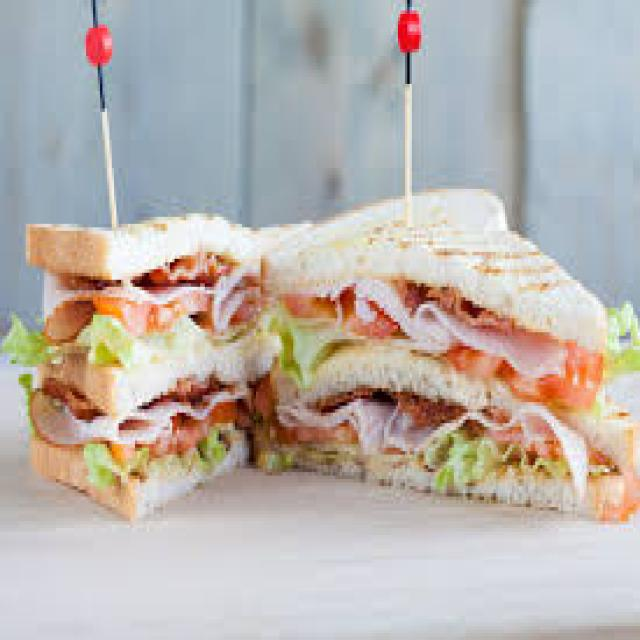Sandwich: (42, 211, 640, 514)
